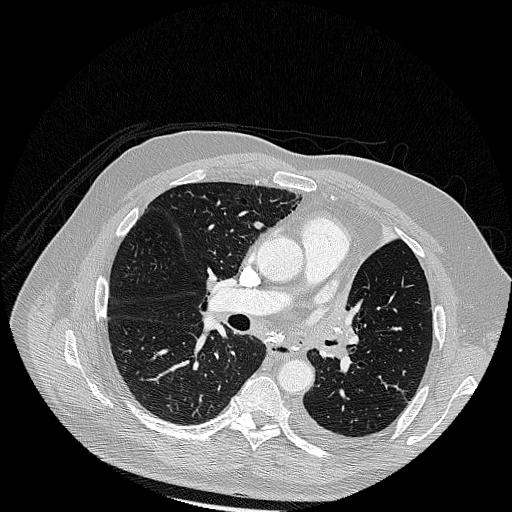nodule: (251, 218, 263, 230)
